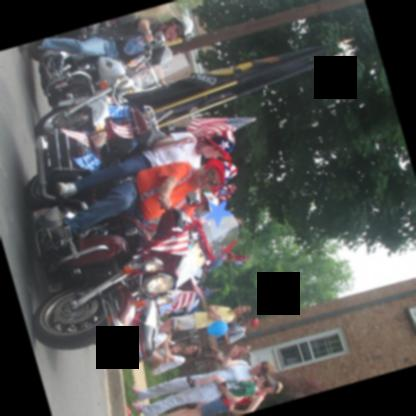handbag: (136, 130, 163, 149), (216, 331, 245, 345)
